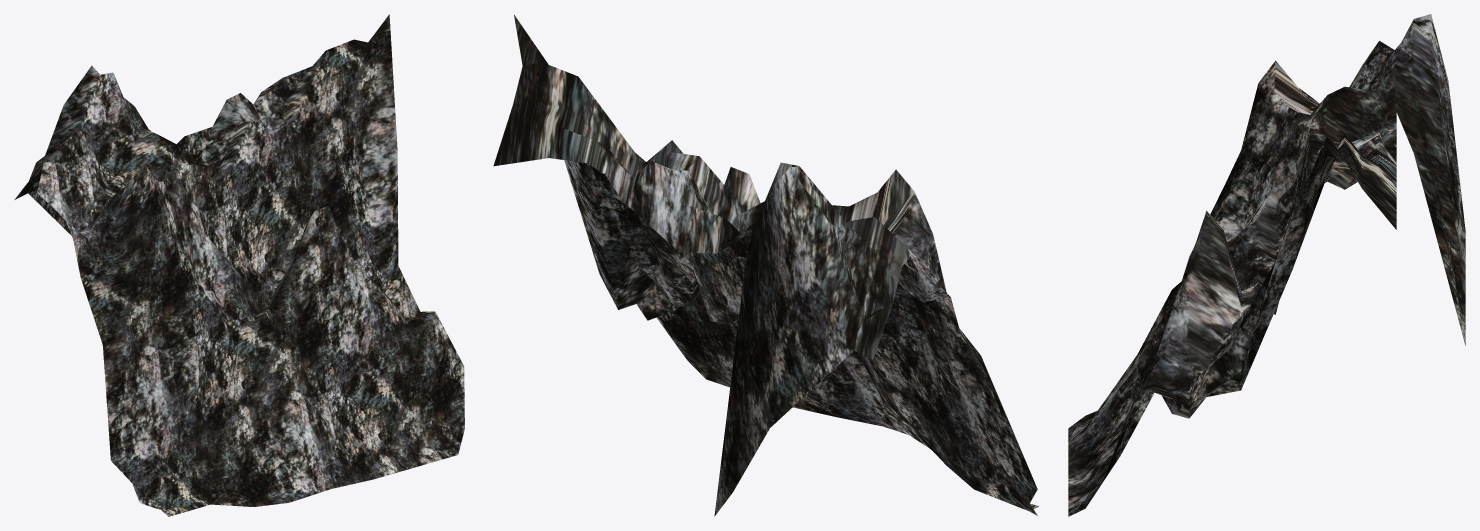
File: OVERHILL_A_01_OBJECT13.fbx
The picture shows the model from 3 angles, left to right: view 1: azimuth 30°, elevation 25°; view 2: azimuth 150°, elevation 25°; view 3: azimuth 270°, elevation 25°; orthographic projection. The views are drawn at different scales.
Visible parts, largest first — view 1: OVERHILL_A_01_OBJECT13; view 2: OVERHILL_A_01_OBJECT13; view 3: OVERHILL_A_01_OBJECT13.
Part boxes in pixels (box(x1,y1,x2,y2)): OVERHILL_A_01_OBJECT13: box(14, 14, 464, 516); OVERHILL_A_01_OBJECT13: box(493, 15, 1038, 516); OVERHILL_A_01_OBJECT13: box(1068, 14, 1465, 516).
Size of the model in its own units: 328786 by 337078 by 286701.
1 material, 1 textured.
